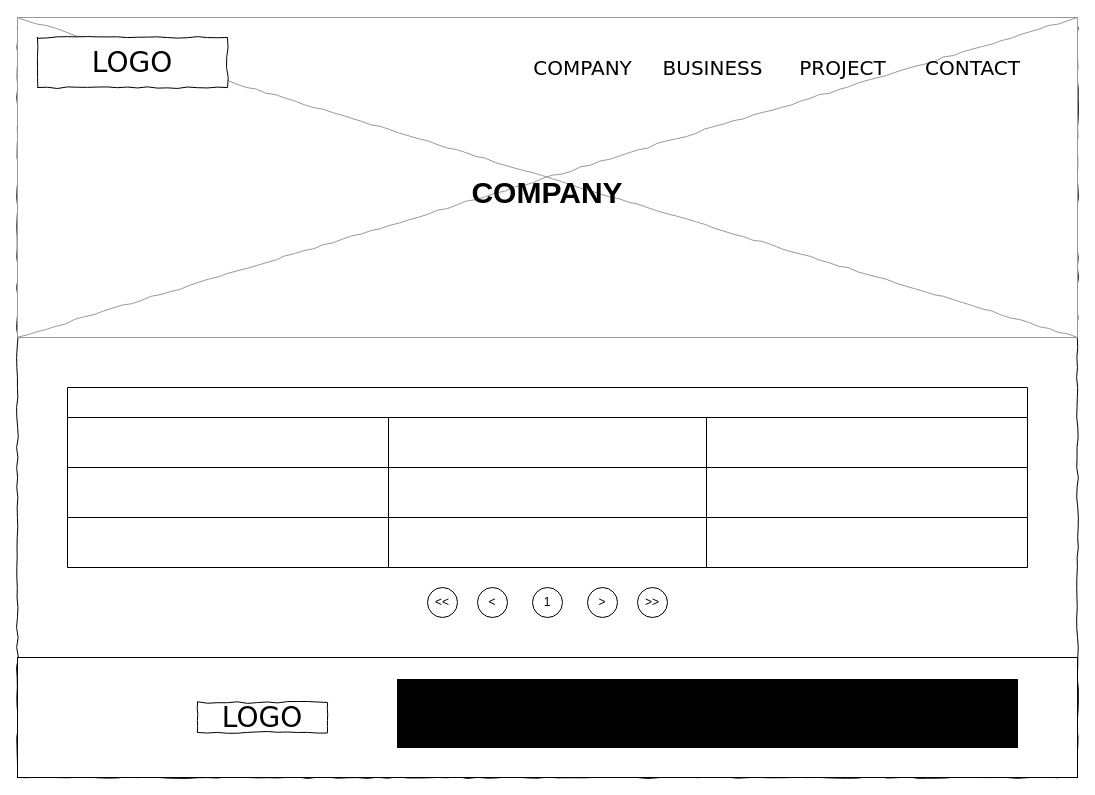
This 1095x795 diagram has some shape labels left out. Here are the shapes that lost their labels. From the top down, the centre of each, then its label:
At pixel 547 477: "Table".
At pixel 707 713: "TEXT AREA".
